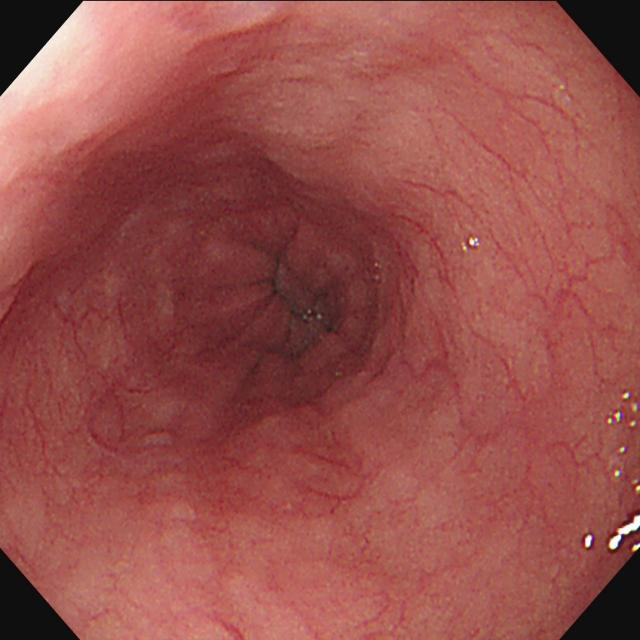I: (194, 211, 360, 373)
U: (605, 387, 640, 501), (608, 515, 640, 552), (579, 526, 600, 557), (460, 234, 486, 259)
